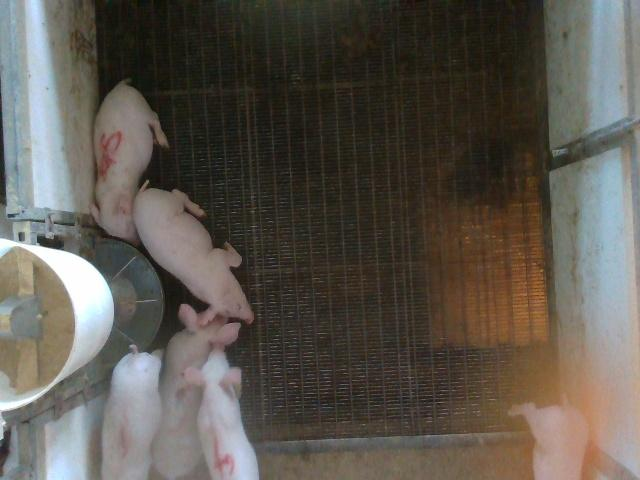pig-1: (101, 345, 162, 479)
pig-3: (152, 304, 240, 479)
pig-4: (185, 349, 258, 479)
pig-5: (91, 80, 169, 244)
